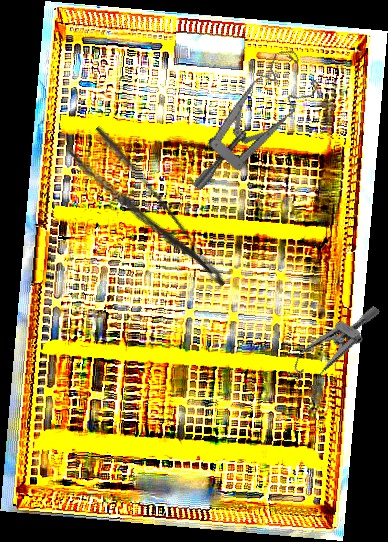Dressing Forceps: (66, 123, 230, 309)
Speculum: (157, 43, 338, 192), (281, 285, 381, 407)
